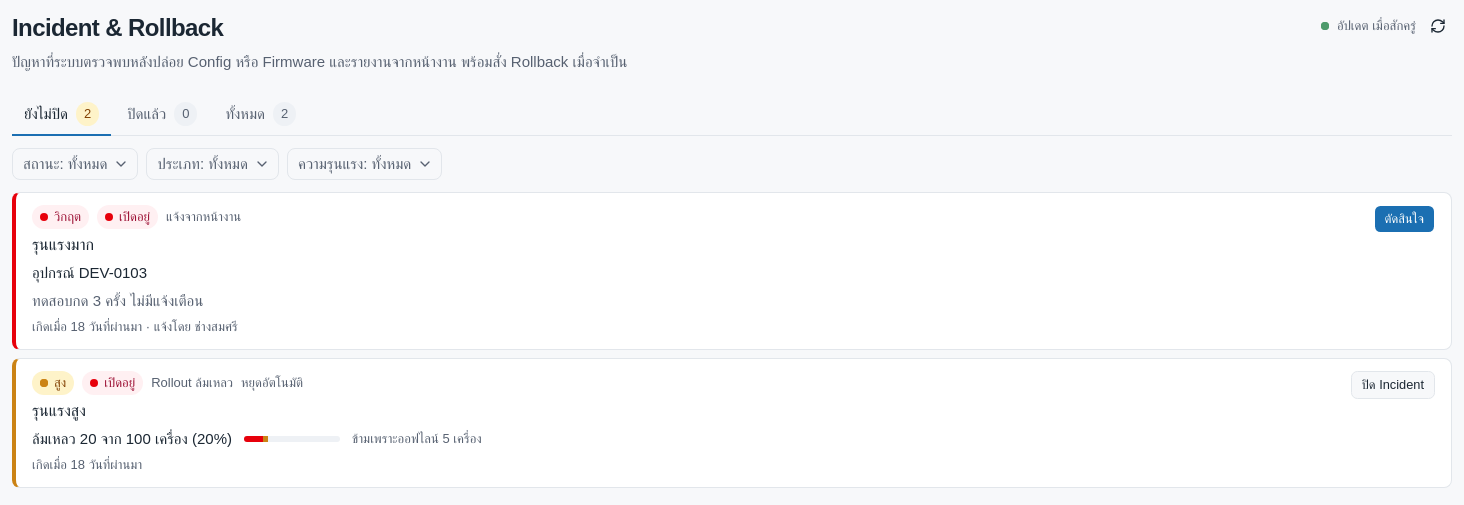
Test: IncidentsView: แยกที่มาและผลกระทบ › กรองตามความรุนแรง: เหลือเฉพาะระดับที่เลือก
The image size is (1464, 505).
Click the dropdown labelled "ความรุนแรง: ทั้งหมด ▼".
click(365, 164)  # box x1=287 y1=148 x2=442 y2=180
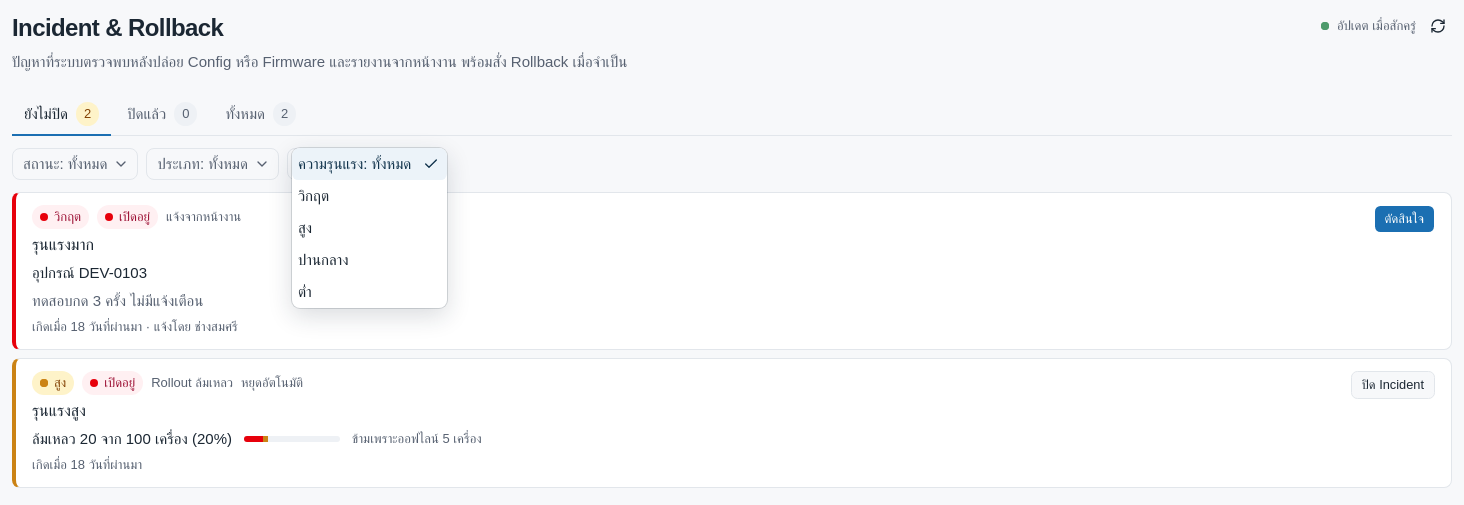
Click the option "สูง".
click(305, 228)  # box x1=298 y1=219 x2=312 y2=236
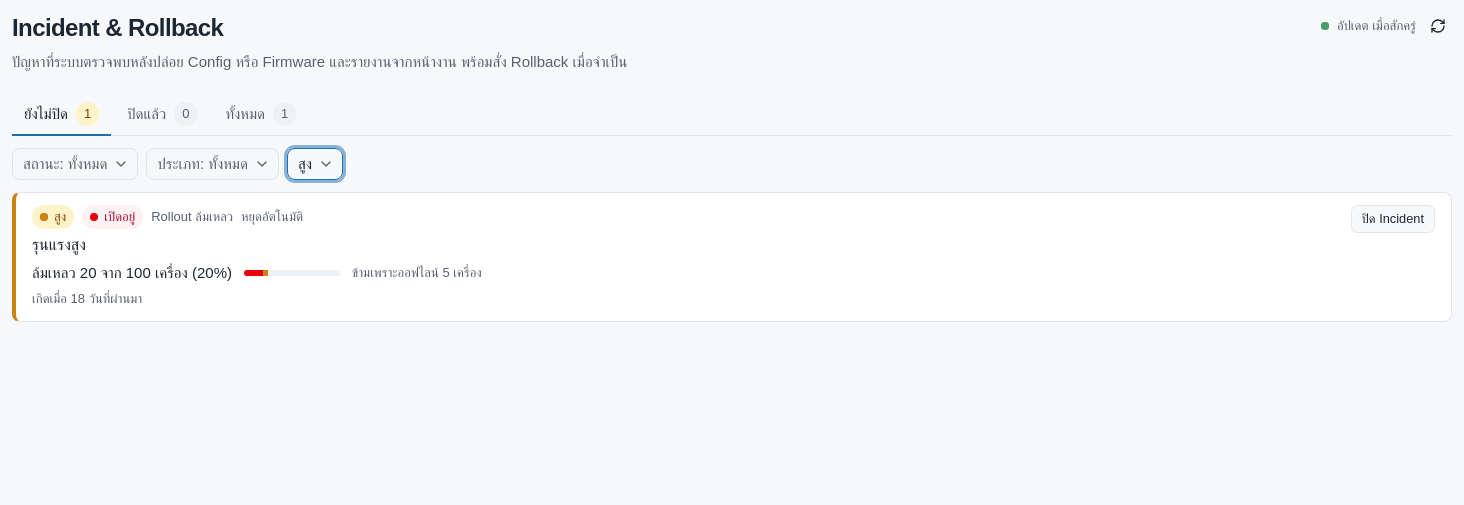
Check: the link "รุนแรงสูง" is shown, box x1=32 y1=236 x2=86 y2=253
Check: the link "รุนแรงมาก" is gone
